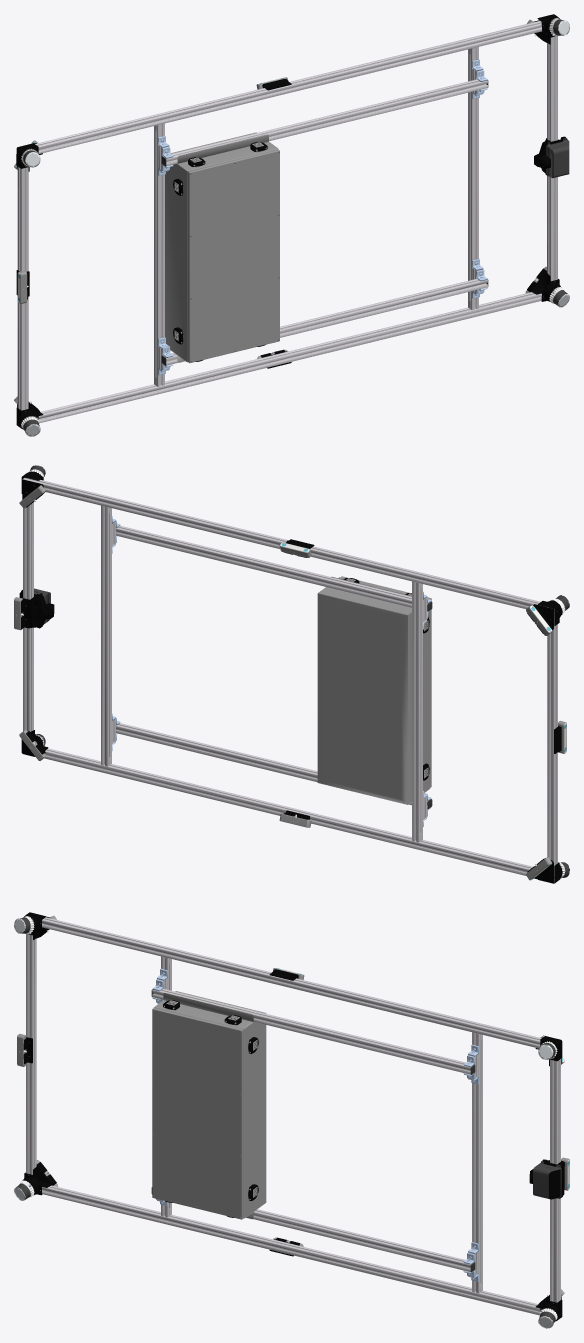
The model's file is rack.obj.
The picture shows the model from 3 angles, top to bottom: view 1: azimuth 30°, elevation 25°; view 2: azimuth 150°, elevation 25°; view 3: azimuth 330°, elevation 25°; orthographic projection.
Visible parts, largest first — view 1: rviz_optimized_Body1; view 2: rviz_optimized_Body1; view 3: rviz_optimized_Body1.
Boxes of the visible parts, x1=… form: rviz_optimized_Body1: x1=14, y1=14, x2=569, y2=436; rviz_optimized_Body1: x1=14, y1=465, x2=569, y2=883; rviz_optimized_Body1: x1=14, y1=912, x2=569, y2=1328.
Size of the model in its own units: 3 by 1.5 by 0.2786.
